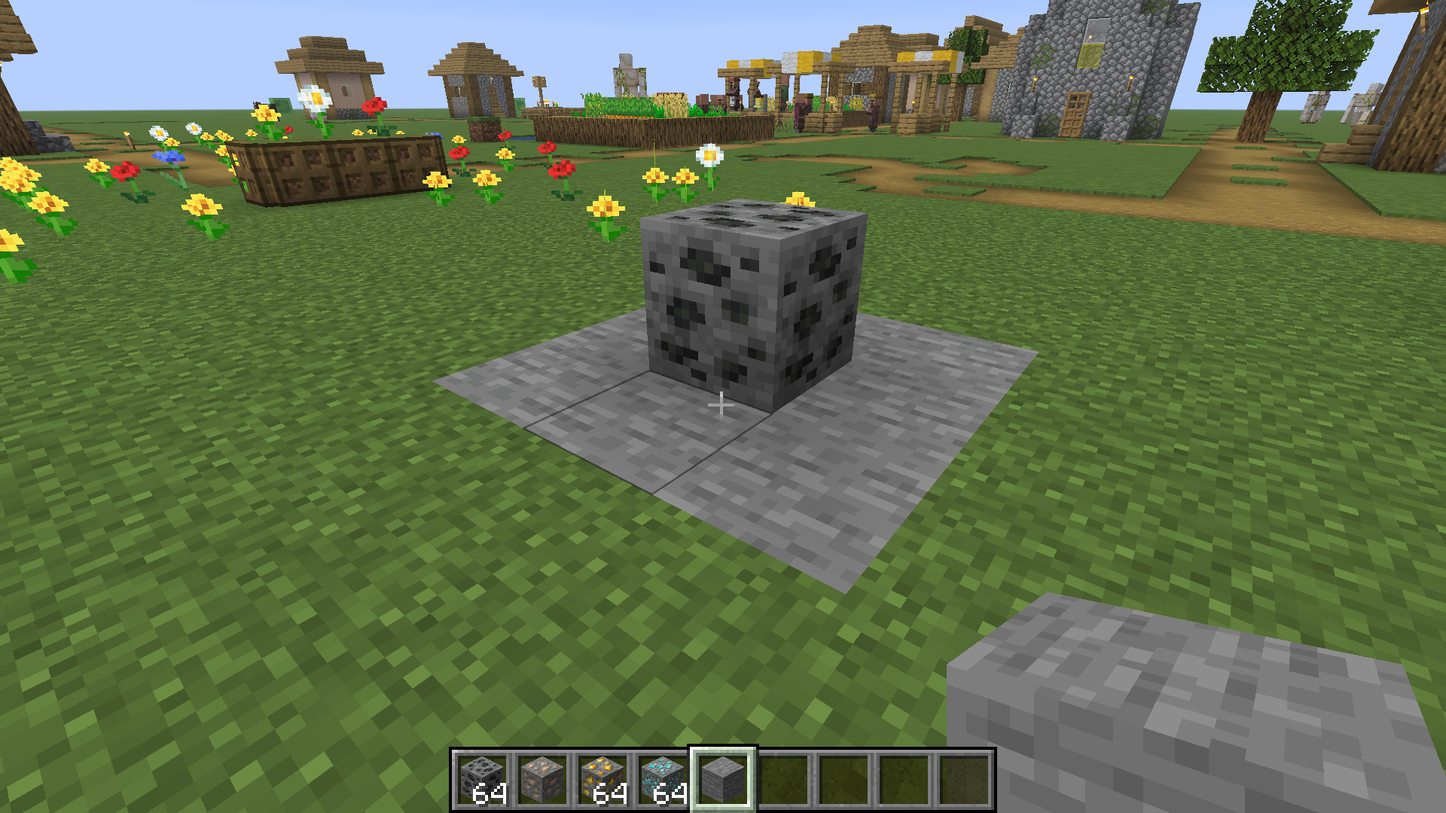coal ore: (645, 198, 868, 413)
stone: (661, 322, 1042, 590), (529, 372, 769, 484)
